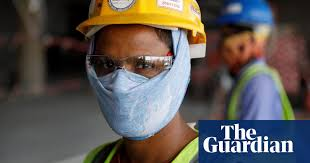Person_wearing_helmet: (73, 0, 213, 77)
